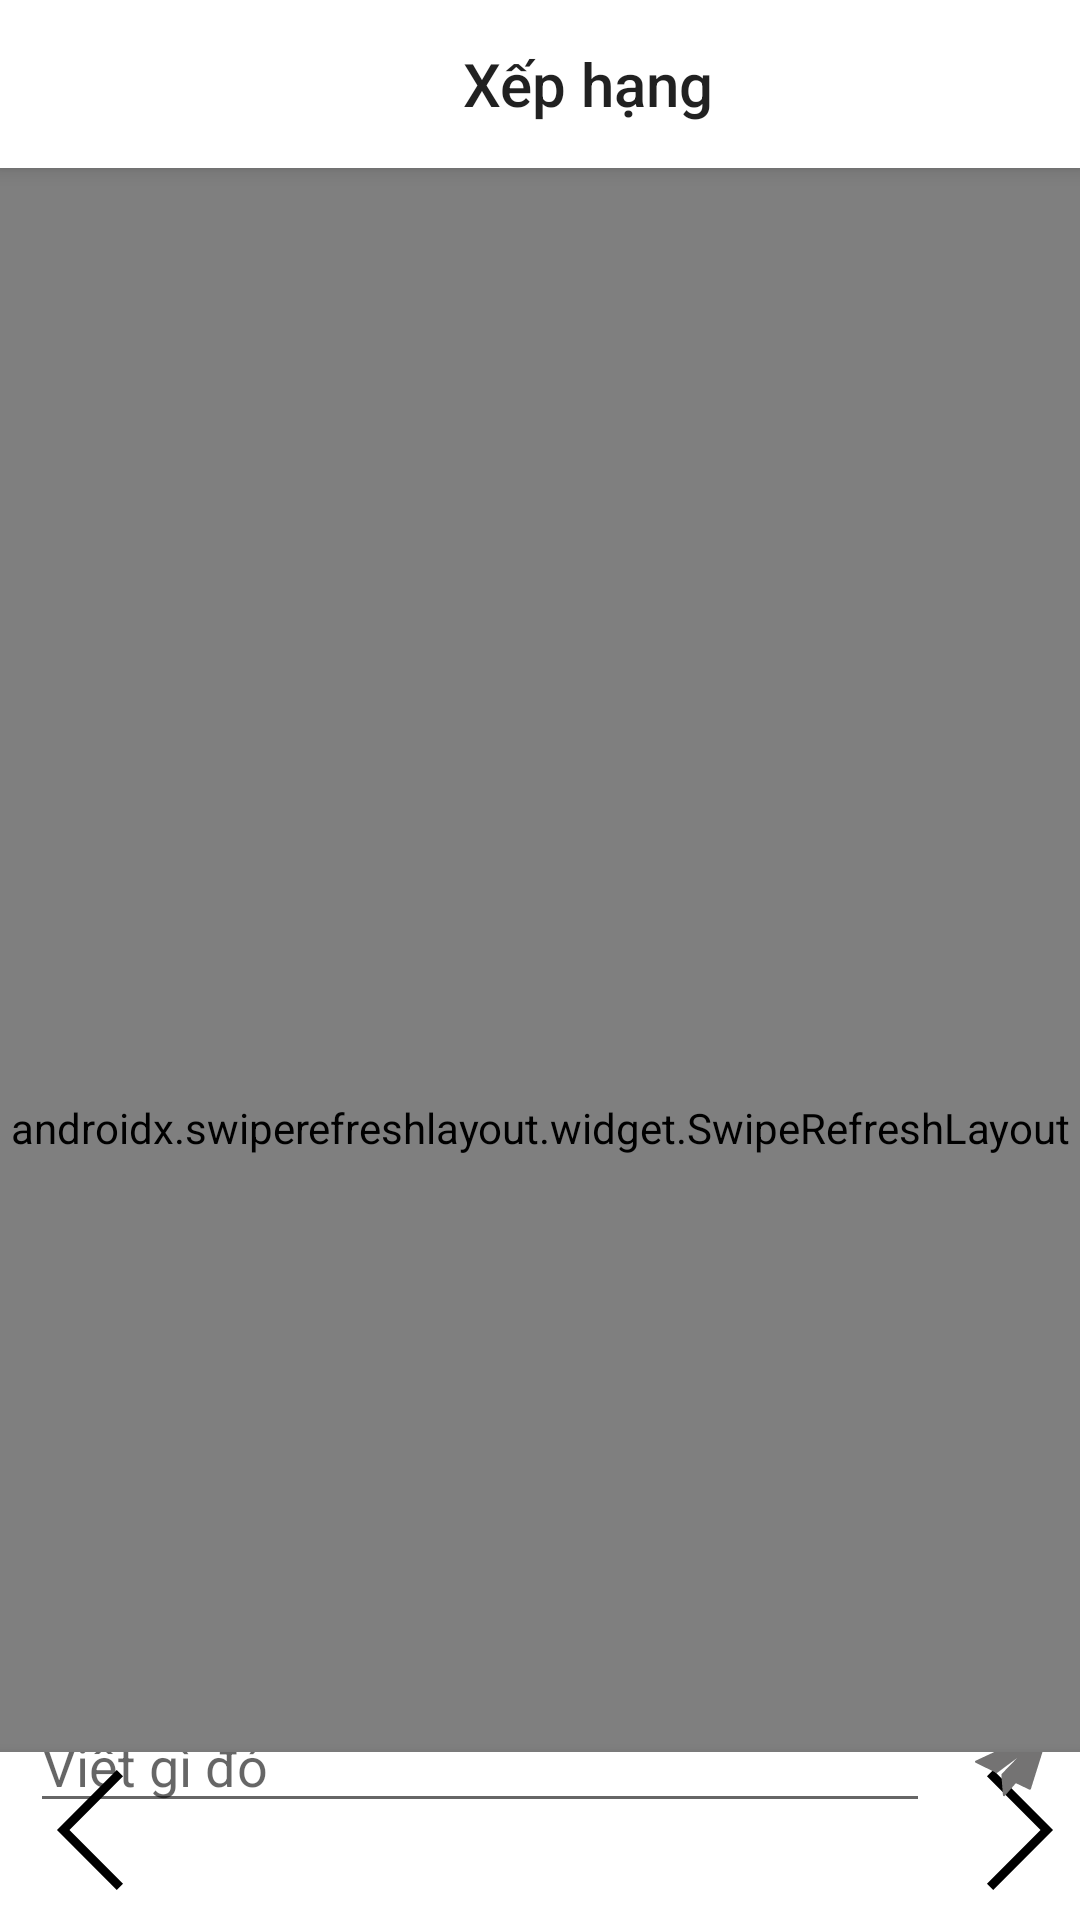

Icons on this 1080x1920 Android screen, each with its box as (x1,y1,x2,y2):
next: (987,1770,1053,1890)
prev: (42,1770,150,1890)
